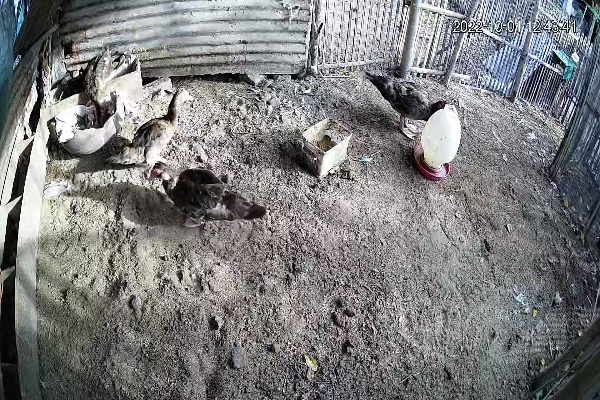Entog: (146, 157, 271, 231), (109, 84, 200, 178), (359, 62, 457, 139)
